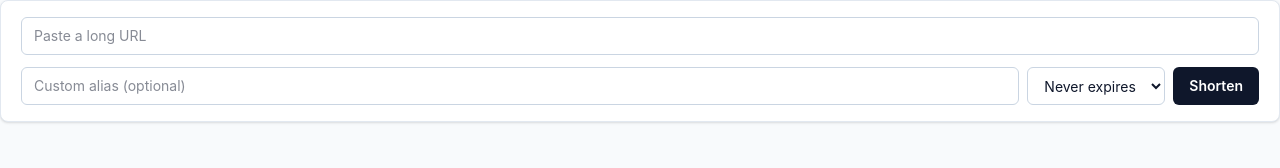
ShortenForm › shows an alias-taken message on a 409
In the field labelled "long URL": point(640, 36) [21, 17, 1259, 55], type "https://example.com"
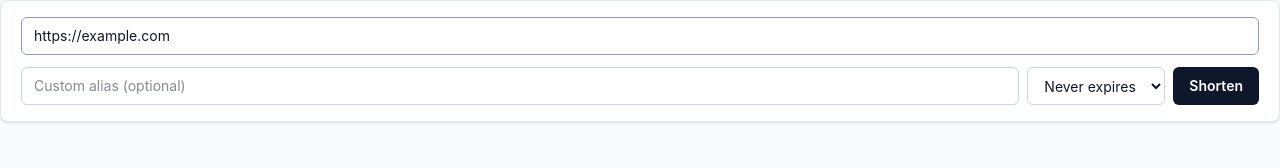
In the field labelled "Custom alias": point(520, 86) [21, 67, 1019, 105], type "taken"
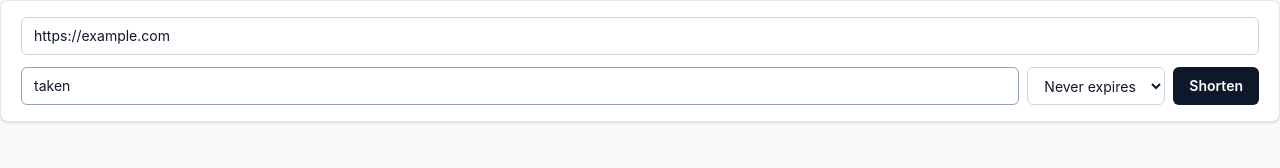
Click the button "Shorten": point(1216, 86) [1173, 67, 1259, 105]
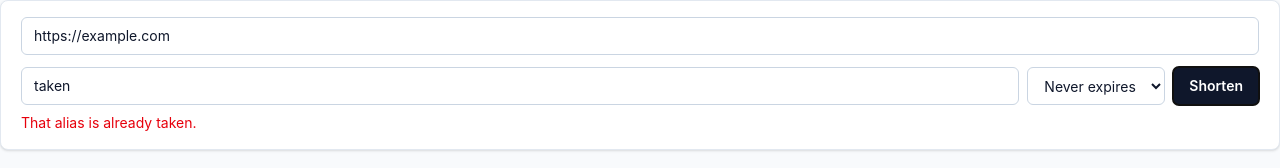
Now the text "That alias is already taken." is shown, box [21, 114, 196, 131]
